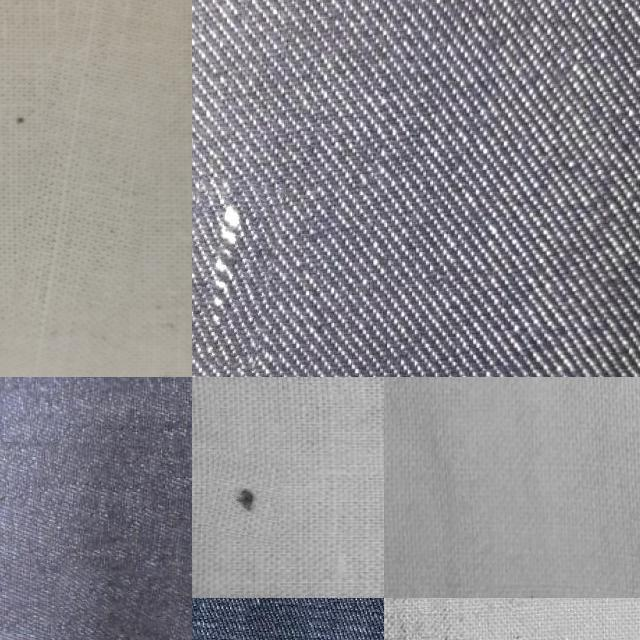Hole: (204, 455, 284, 543)
Thread_other: (192, 177, 279, 367)
